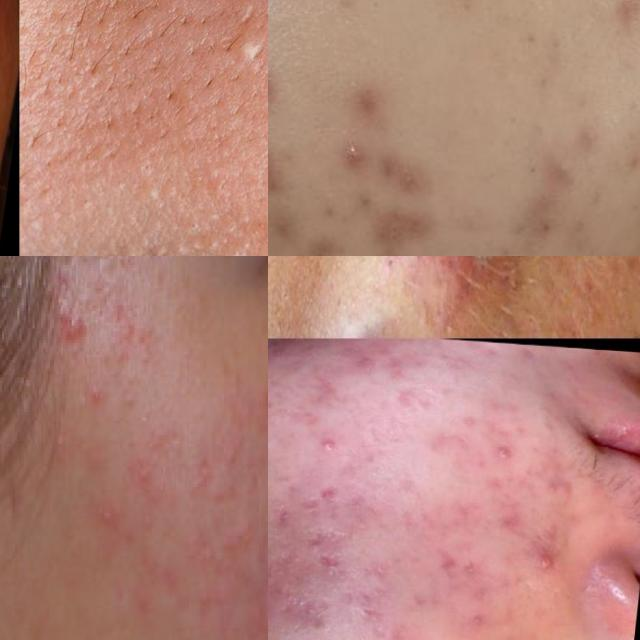acne_scars: (427, 548, 483, 582), (307, 549, 361, 583), (310, 485, 348, 511), (493, 512, 531, 536)
comedone: (226, 11, 268, 100), (335, 132, 390, 178), (511, 148, 559, 189), (306, 200, 343, 227), (356, 192, 380, 220)
flat_wart: (115, 199, 212, 256)
papule: (268, 32, 294, 117), (522, 546, 570, 581), (293, 528, 330, 554), (268, 596, 273, 635)
pustule: (308, 429, 346, 460), (490, 442, 518, 462)
sebo-crystan-conglo: (325, 256, 531, 325)
